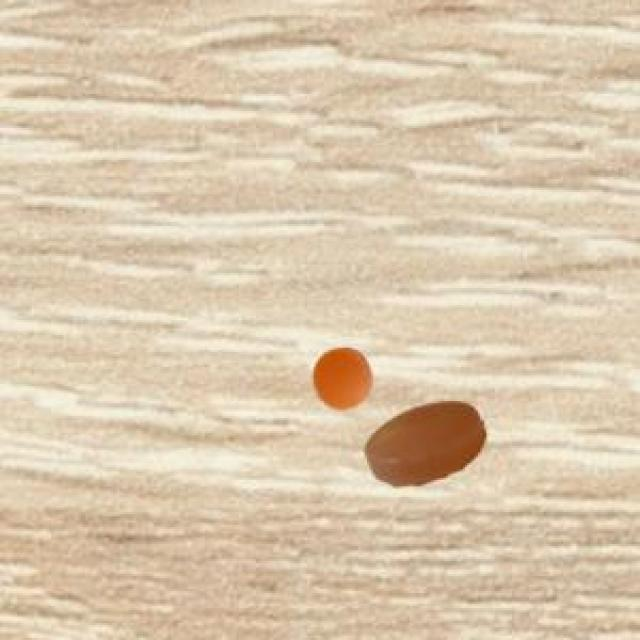Bactidol: (354, 394, 494, 503), (282, 331, 381, 414)
